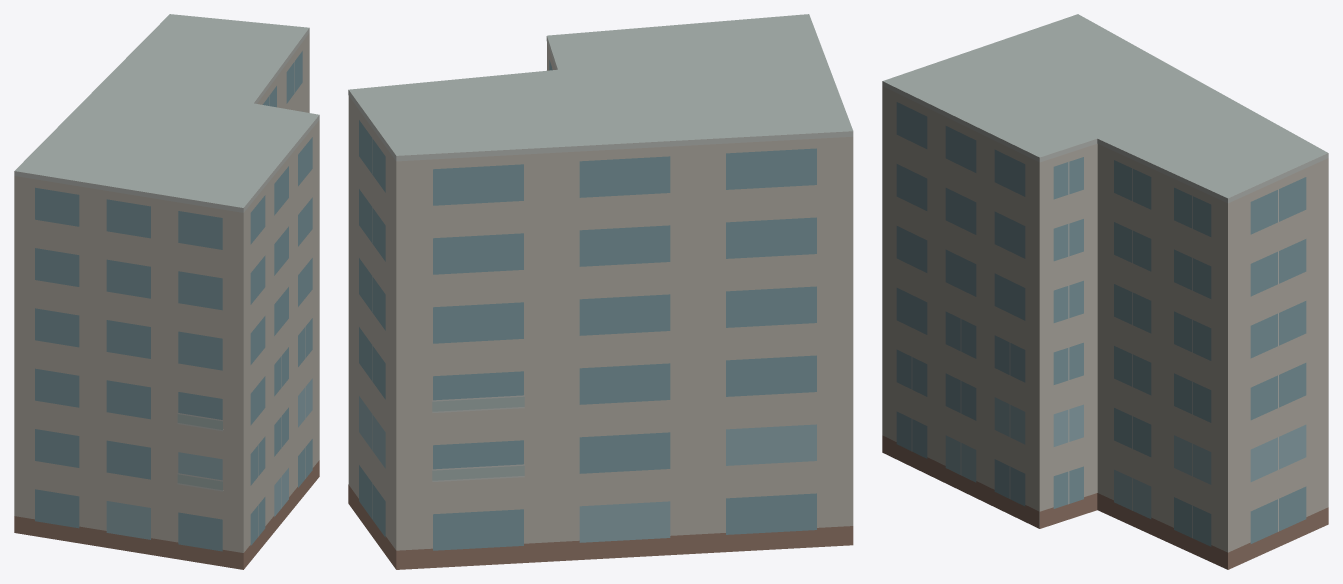
Rendered from survey-upis-32956371.glb.
3 renders of one model, left to right at view 1: azimuth 30°, elevation 25°; view 2: azimuth 150°, elevation 25°; view 3: azimuth 270°, elevation 25°, orthographic. The views are drawn at different scales.
Parts seen in each view (by area): view 1: survey-upis-32956371.tmp; view 2: survey-upis-32956371.tmp; view 3: survey-upis-32956371.tmp.
Boxes of the visible parts, <box> form: survey-upis-32956371.tmp: <box>14,14,319,569</box>; survey-upis-32956371.tmp: <box>348,14,853,569</box>; survey-upis-32956371.tmp: <box>882,14,1328,569</box>.
Bounding box in the file's own units: 19.5 × 18.3 × 19.93.
